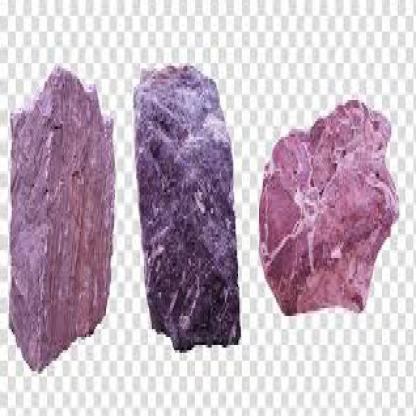Metamorphic_Marble: (3, 50, 120, 371), (252, 87, 403, 326), (127, 50, 245, 355)
